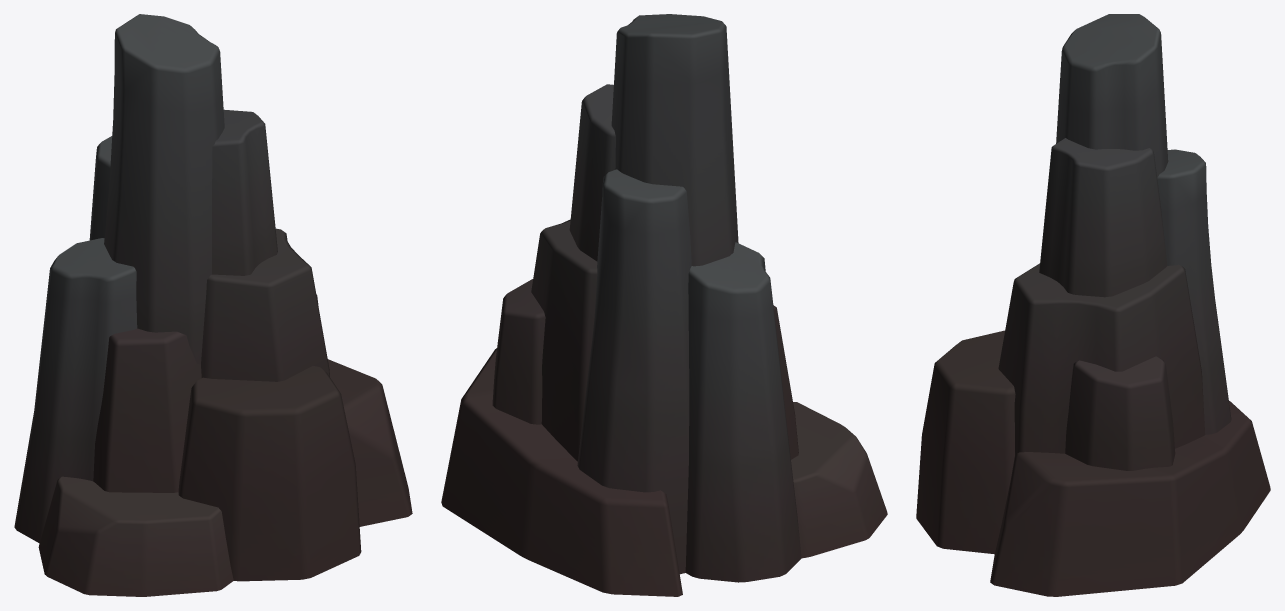
Rendered from inferno-rock-big-004.glb.
The picture shows the model from 3 angles, left to right: view 1: azimuth 30°, elevation 25°; view 2: azimuth 150°, elevation 25°; view 3: azimuth 270°, elevation 25°; orthographic projection. The views are drawn at different scales.
Parts seen in each view (by area): view 1: RockBig_004; view 2: RockBig_004; view 3: RockBig_004.
Boxes of the visible parts, box(x1,y1,x2,y2) form: RockBig_004: box(14, 14, 412, 596); RockBig_004: box(441, 14, 887, 596); RockBig_004: box(916, 14, 1270, 596).
Bounding box in the file's own units: 29.93 × 38.16 × 26.19.
Materials: 1 (1 with a texture image).
